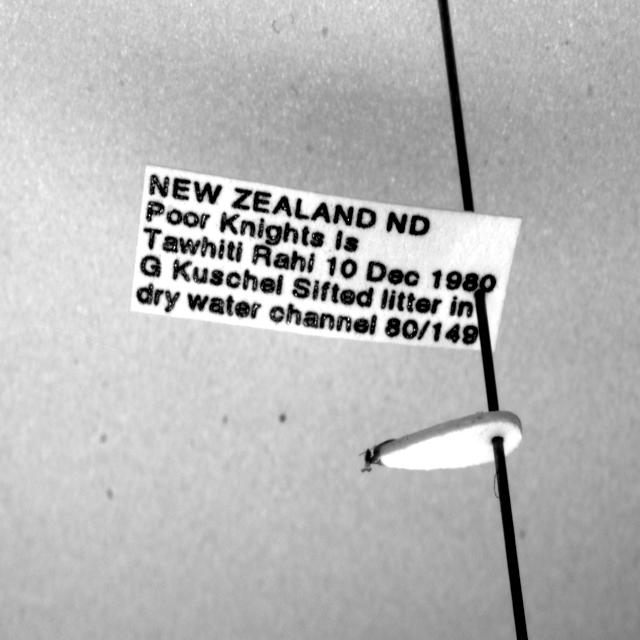typed_label: (131, 165, 521, 349)
